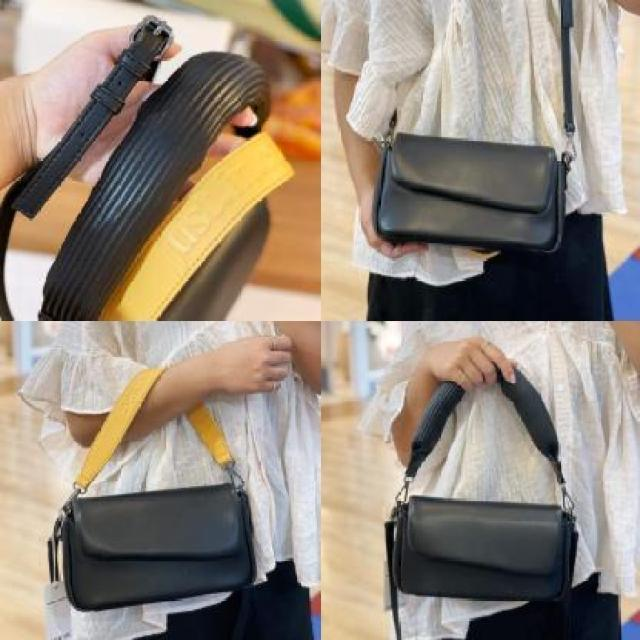Bag: (352, 0, 612, 285), (342, 333, 608, 609), (20, 353, 292, 607)
